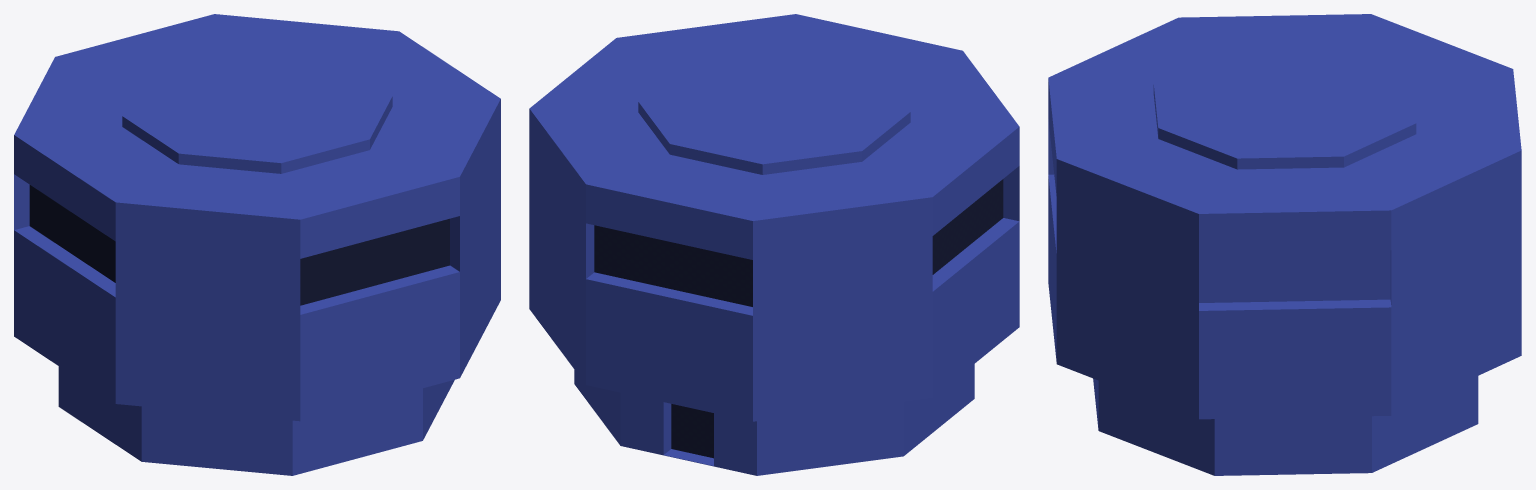
3 renders of one model, left to right at view 1: azimuth 30°, elevation 25°; view 2: azimuth 150°, elevation 25°; view 3: azimuth 270°, elevation 25°, orthographic. The views are drawn at different scales.
Parts seen in each view (by area): view 1: top, base; view 2: top, base; view 3: top, base.
Boxes of the visible parts, x1,y1,x2,y2 form: top: (14, 14, 500, 353); base: (14, 233, 500, 475); top: (529, 14, 1019, 354); base: (529, 242, 1019, 475); top: (1048, 14, 1521, 350); base: (1048, 216, 1521, 475).
Bounding box in the file's own units: 188 × 128 × 188.
Materials: 2 (2 with a texture image).
